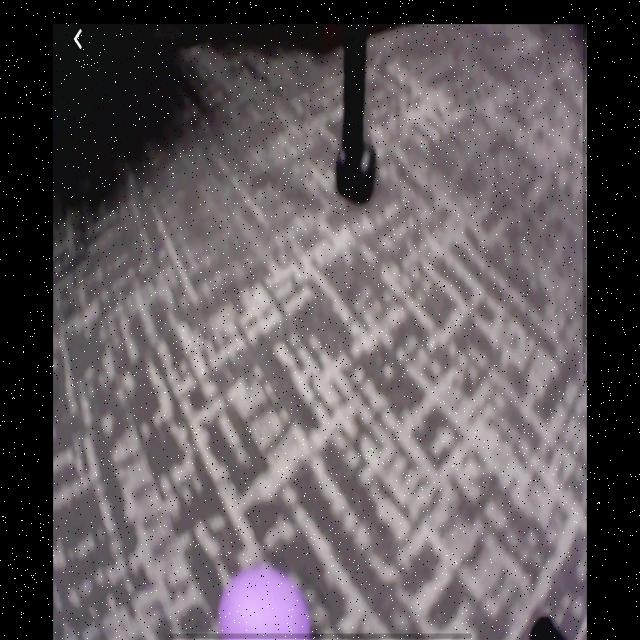ball: (219, 565, 312, 638)
